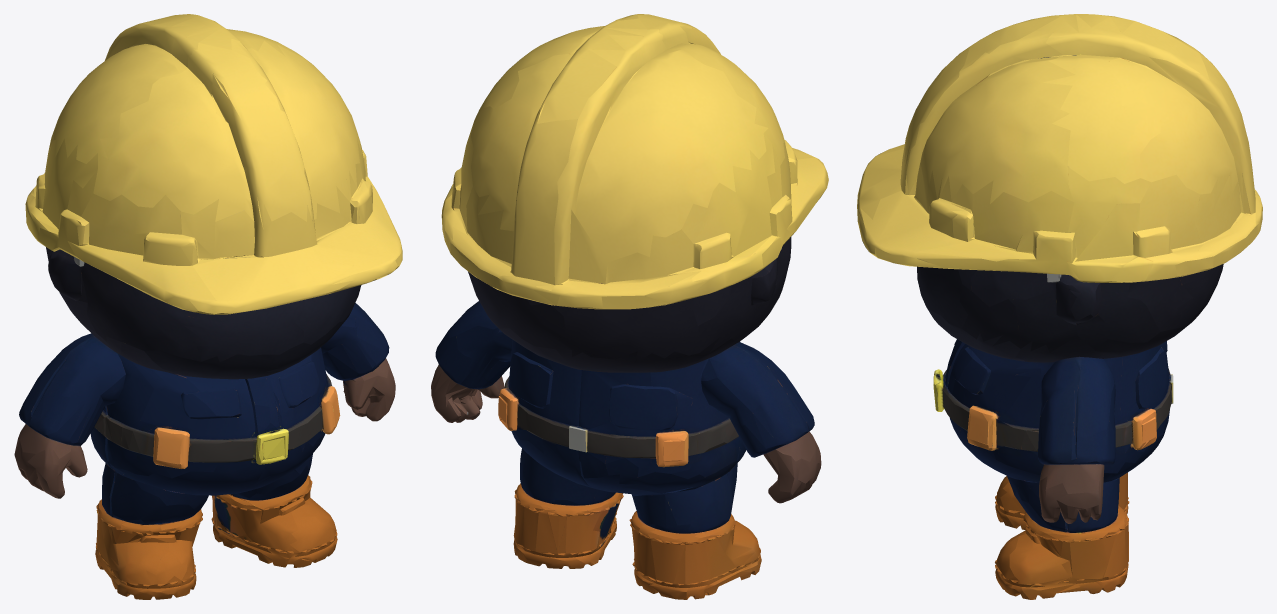
Rendered from headwear_hardhat_01.glb.
3 views of the same model, side by side, from view 1: azimuth 30°, elevation 25°; view 2: azimuth 150°, elevation 25°; view 3: azimuth 270°, elevation 25° (orthographic). The views are drawn at different scales.
Bounding box in the file's own units: 1.39 × 1.9 × 1.33.
Materials: 1 (1 with a texture image).
